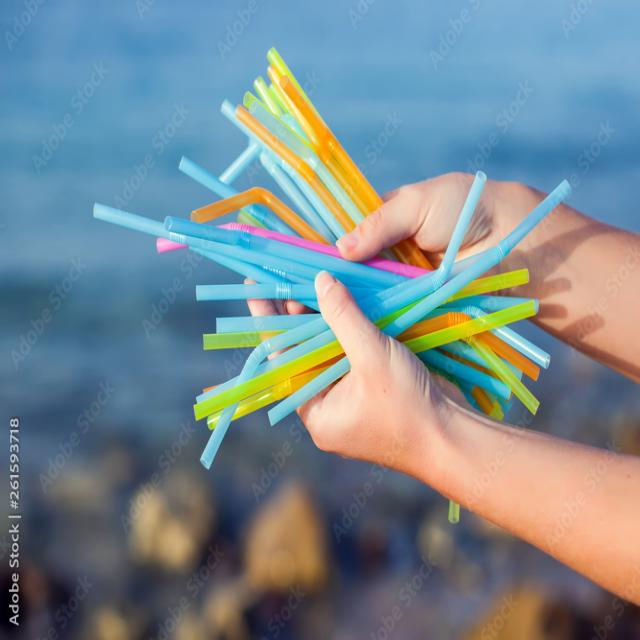plastic: (226, 92, 318, 199)
